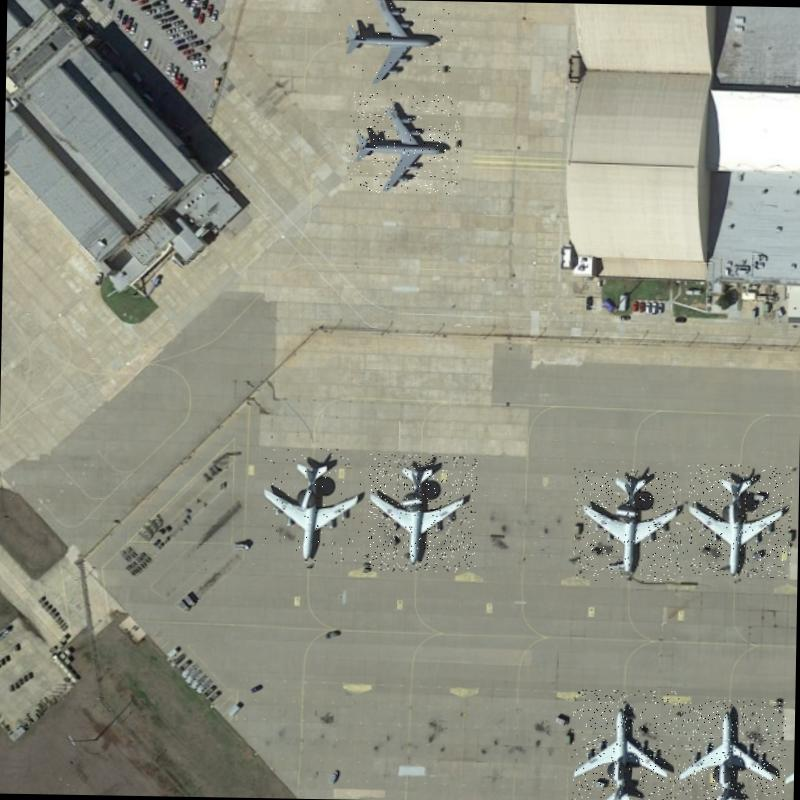A14: (346, 92, 461, 195), (334, 0, 453, 91)
A7: (367, 454, 477, 572), (572, 468, 685, 582), (686, 463, 792, 578), (570, 689, 679, 800), (263, 446, 363, 564), (674, 699, 786, 800)
